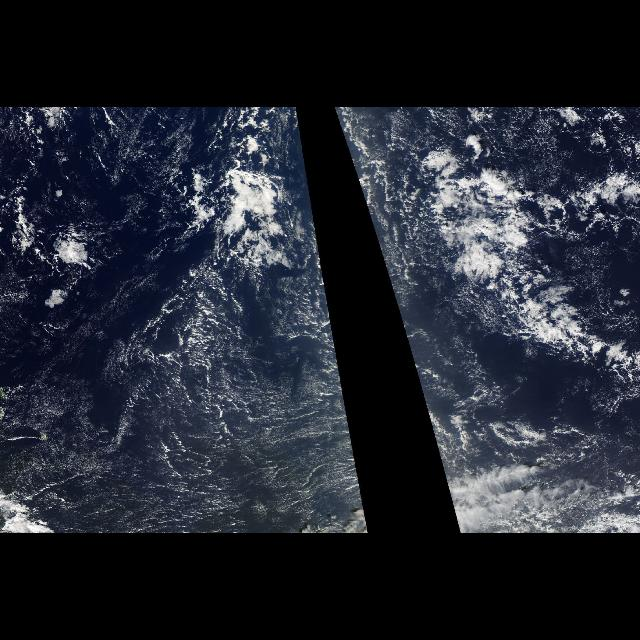Fish: (394, 138, 640, 394)
Gravel: (8, 265, 346, 533), (376, 114, 638, 286)
Sugar: (0, 273, 368, 532), (387, 272, 445, 474)
